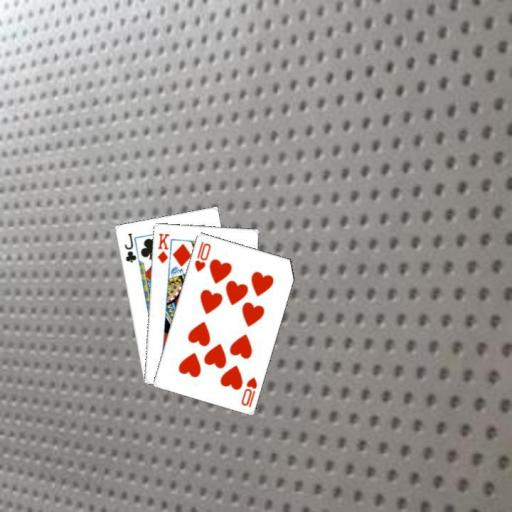10H: (237, 374, 259, 409), (191, 238, 212, 273)
JC: (121, 230, 137, 264)
KD: (154, 230, 171, 265)
